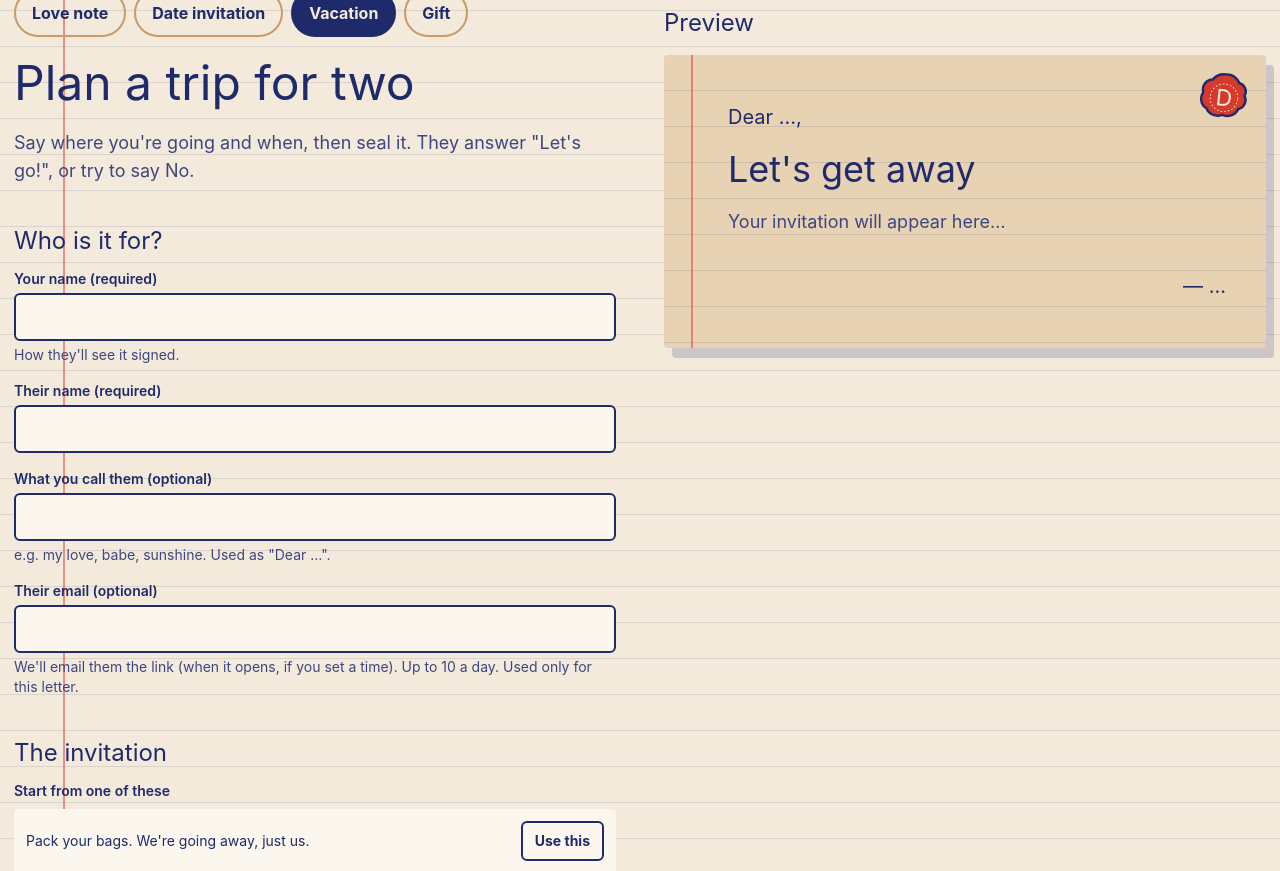
Test case: WriteVacation › fills in the trip, keeps the return after the start, and seals it
Step 1. Type "Ada" into the field labelled "Your name (required) How they'll see it signed." → (315, 317), box [14,293,616,341]
Step 2. Type "Tolu" into the field labelled "Their name (required)" → (315, 429), box [14,405,616,453]
Step 3. Click the button "Use this" → (562, 841), box [521,821,604,861]
(page scrolled)
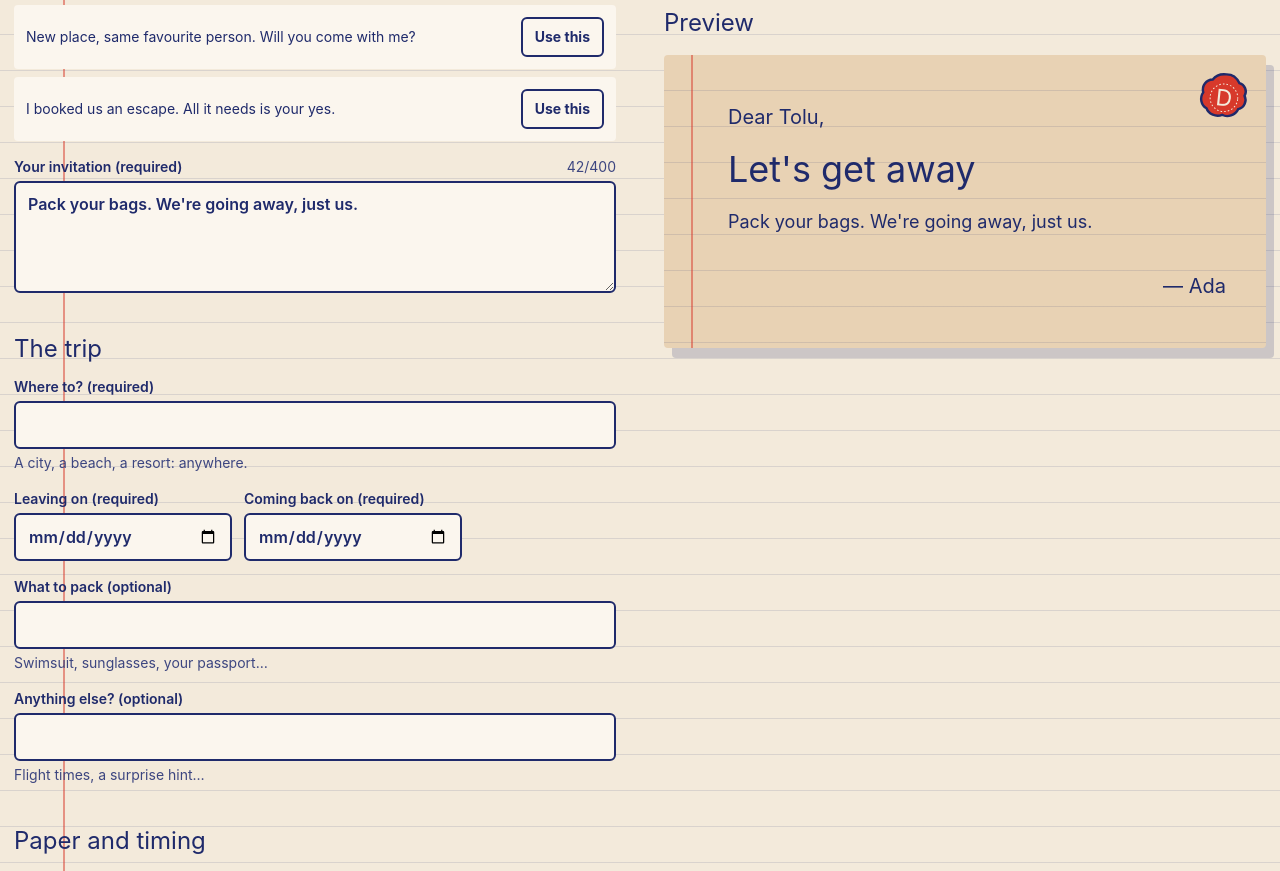
Step 4. Type "Zanzibar" into the field labelled "Where to? (required) A city, a beach, a resort: anywhere." → (315, 425), box [14,401,616,449]
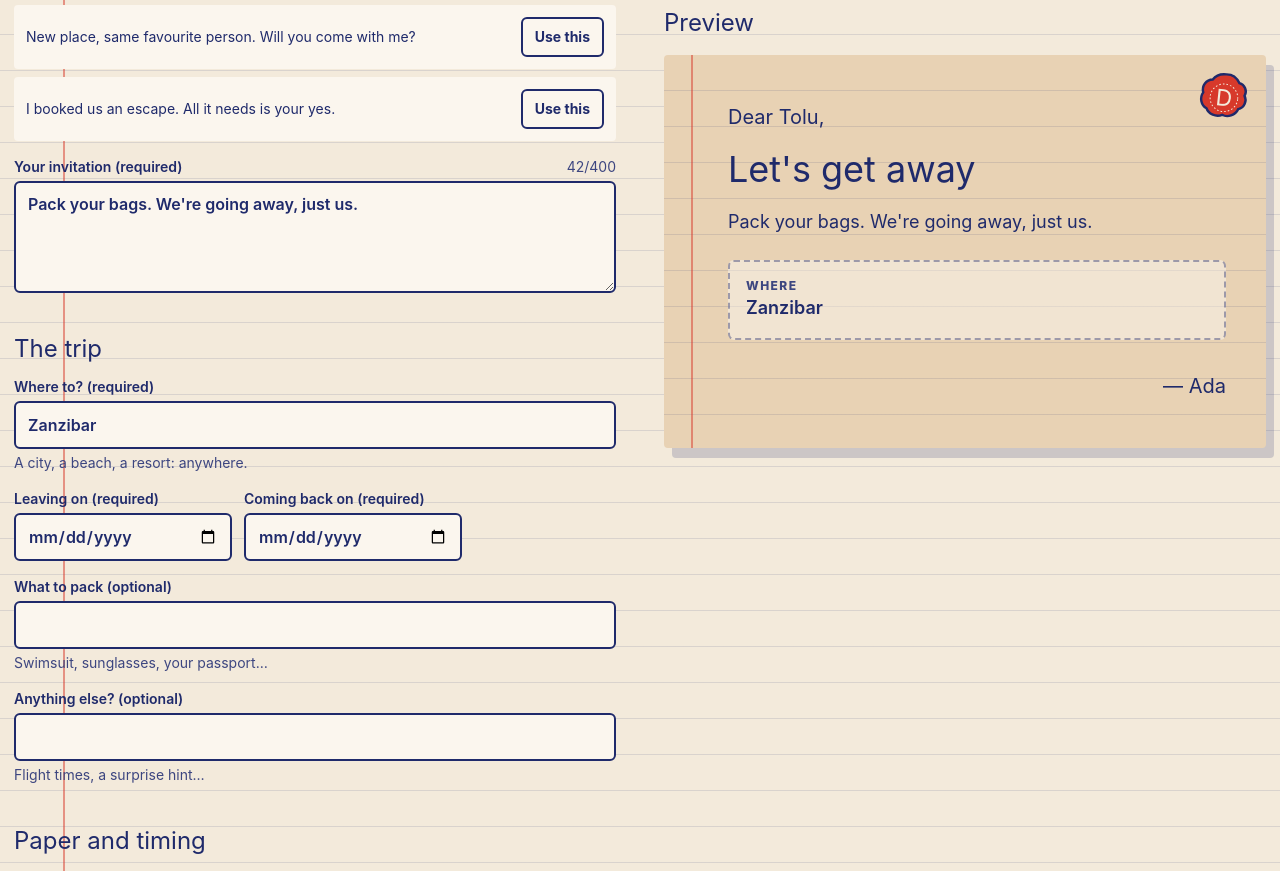
Step 5. Type "2026-12-12" into the date field labelled "Leaving on (required)" → (123, 537), box [14,513,232,561]
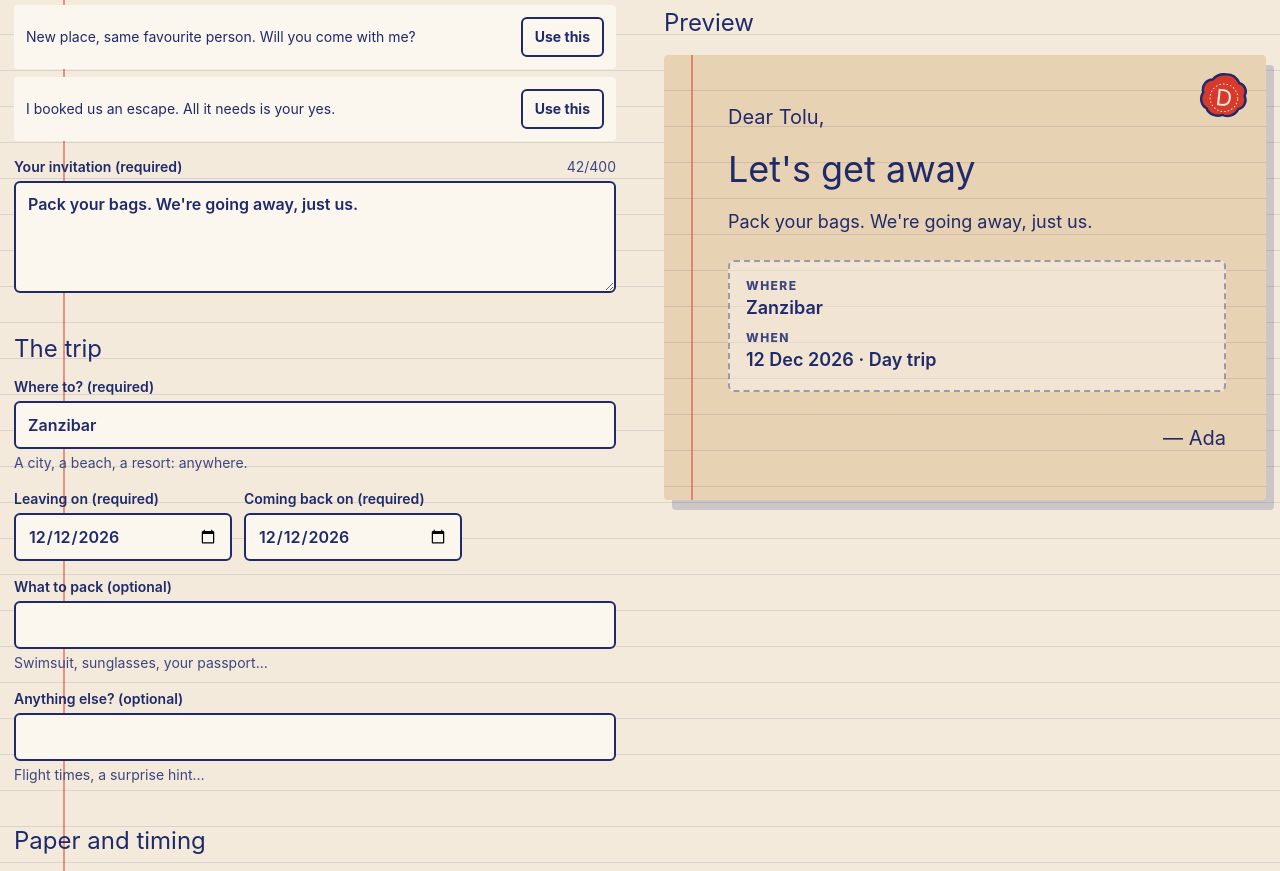
Now the date field labelled "Coming back on (required)" holds "2026-12-12"
Step 6. Type "2026-12-16" into the date field labelled "Coming back on (required)" → (353, 537), box [244,513,462,561]
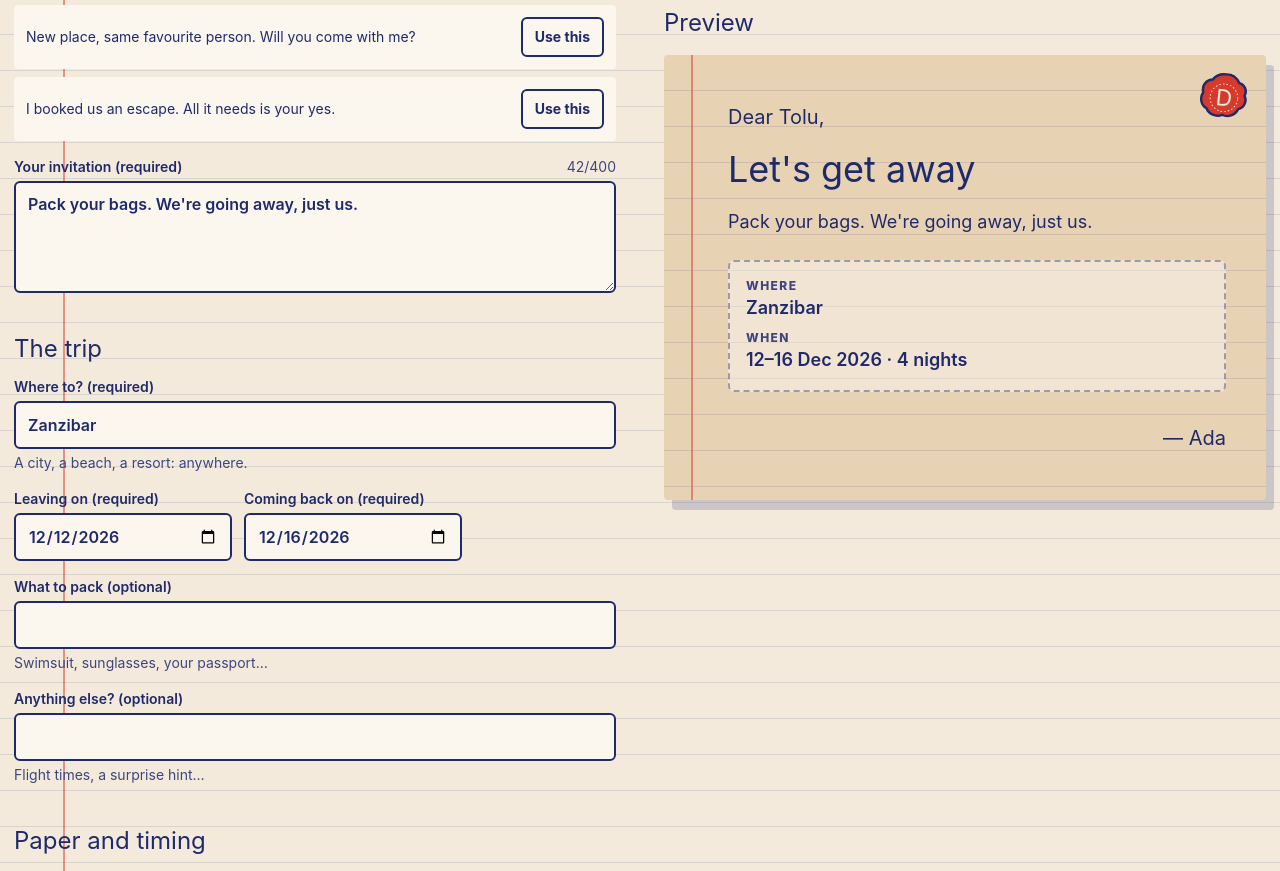
Step 7. Type "Swimsuit" into the field labelled "What to pack (optional) Swimsuit, sunglasses, your passport…" → (315, 625), box [14,601,616,649]
(page scrolled)
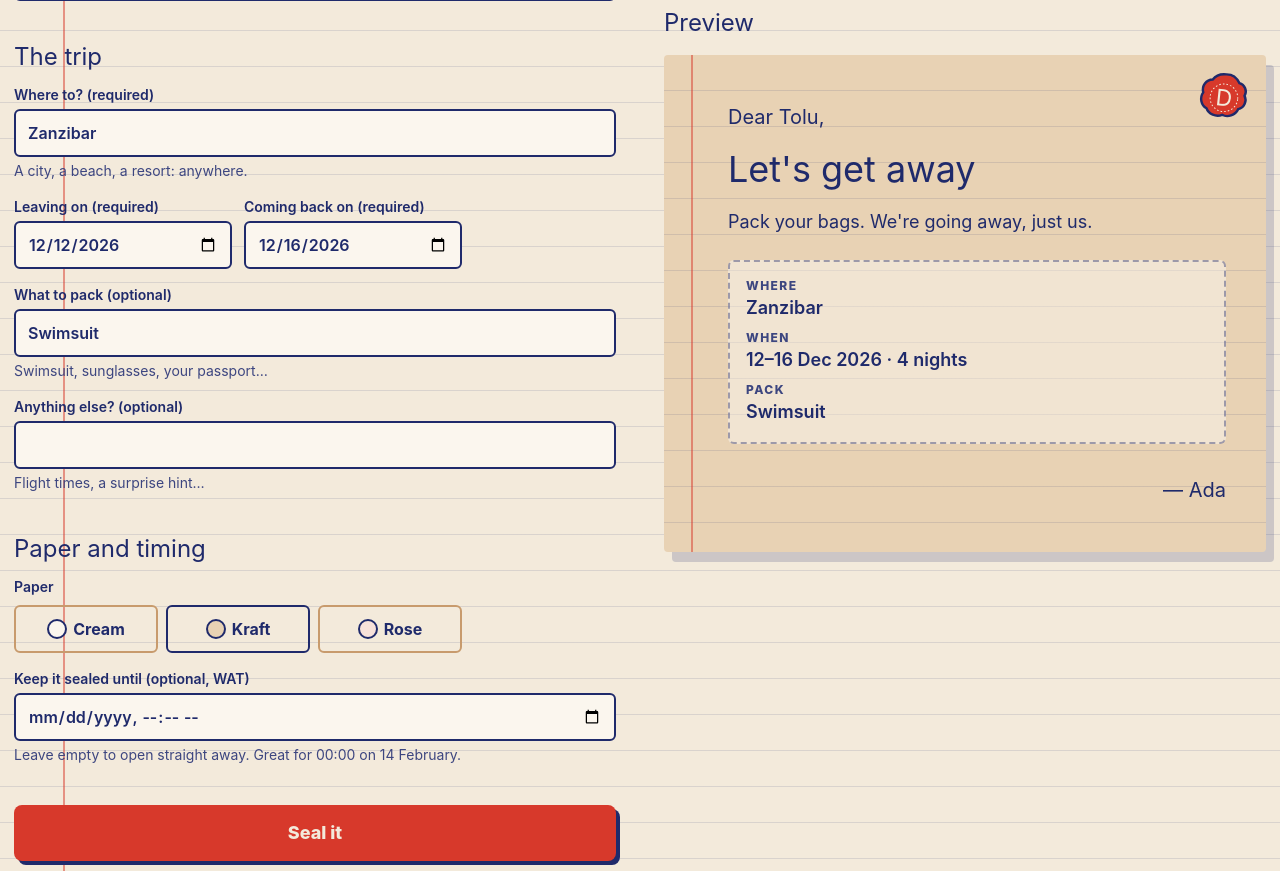
Step 8. Click the button "Seal it" → (315, 833), box [14,805,616,861]
(page scrolled)
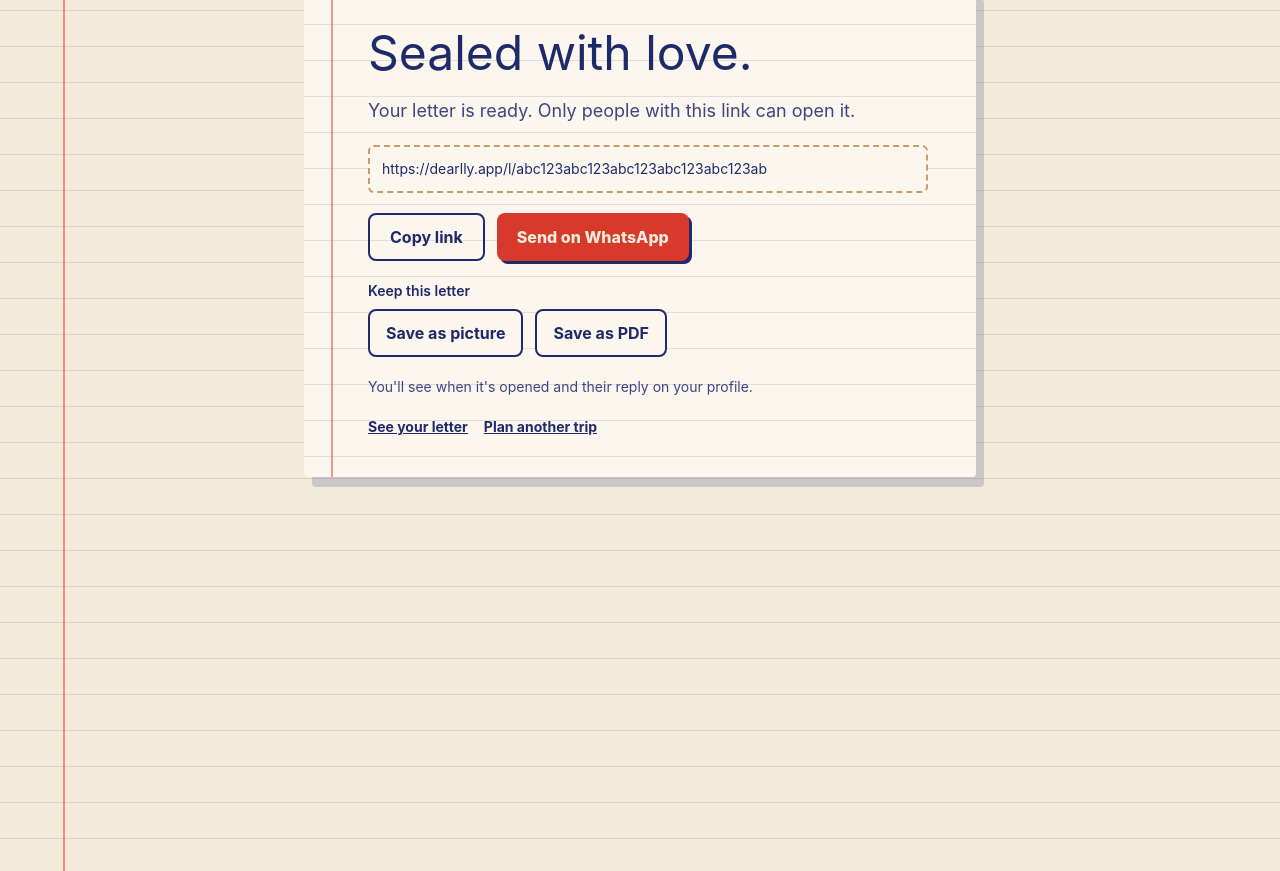
Now the heading "Sealed with love." is shown, box [368,23,752,82]
